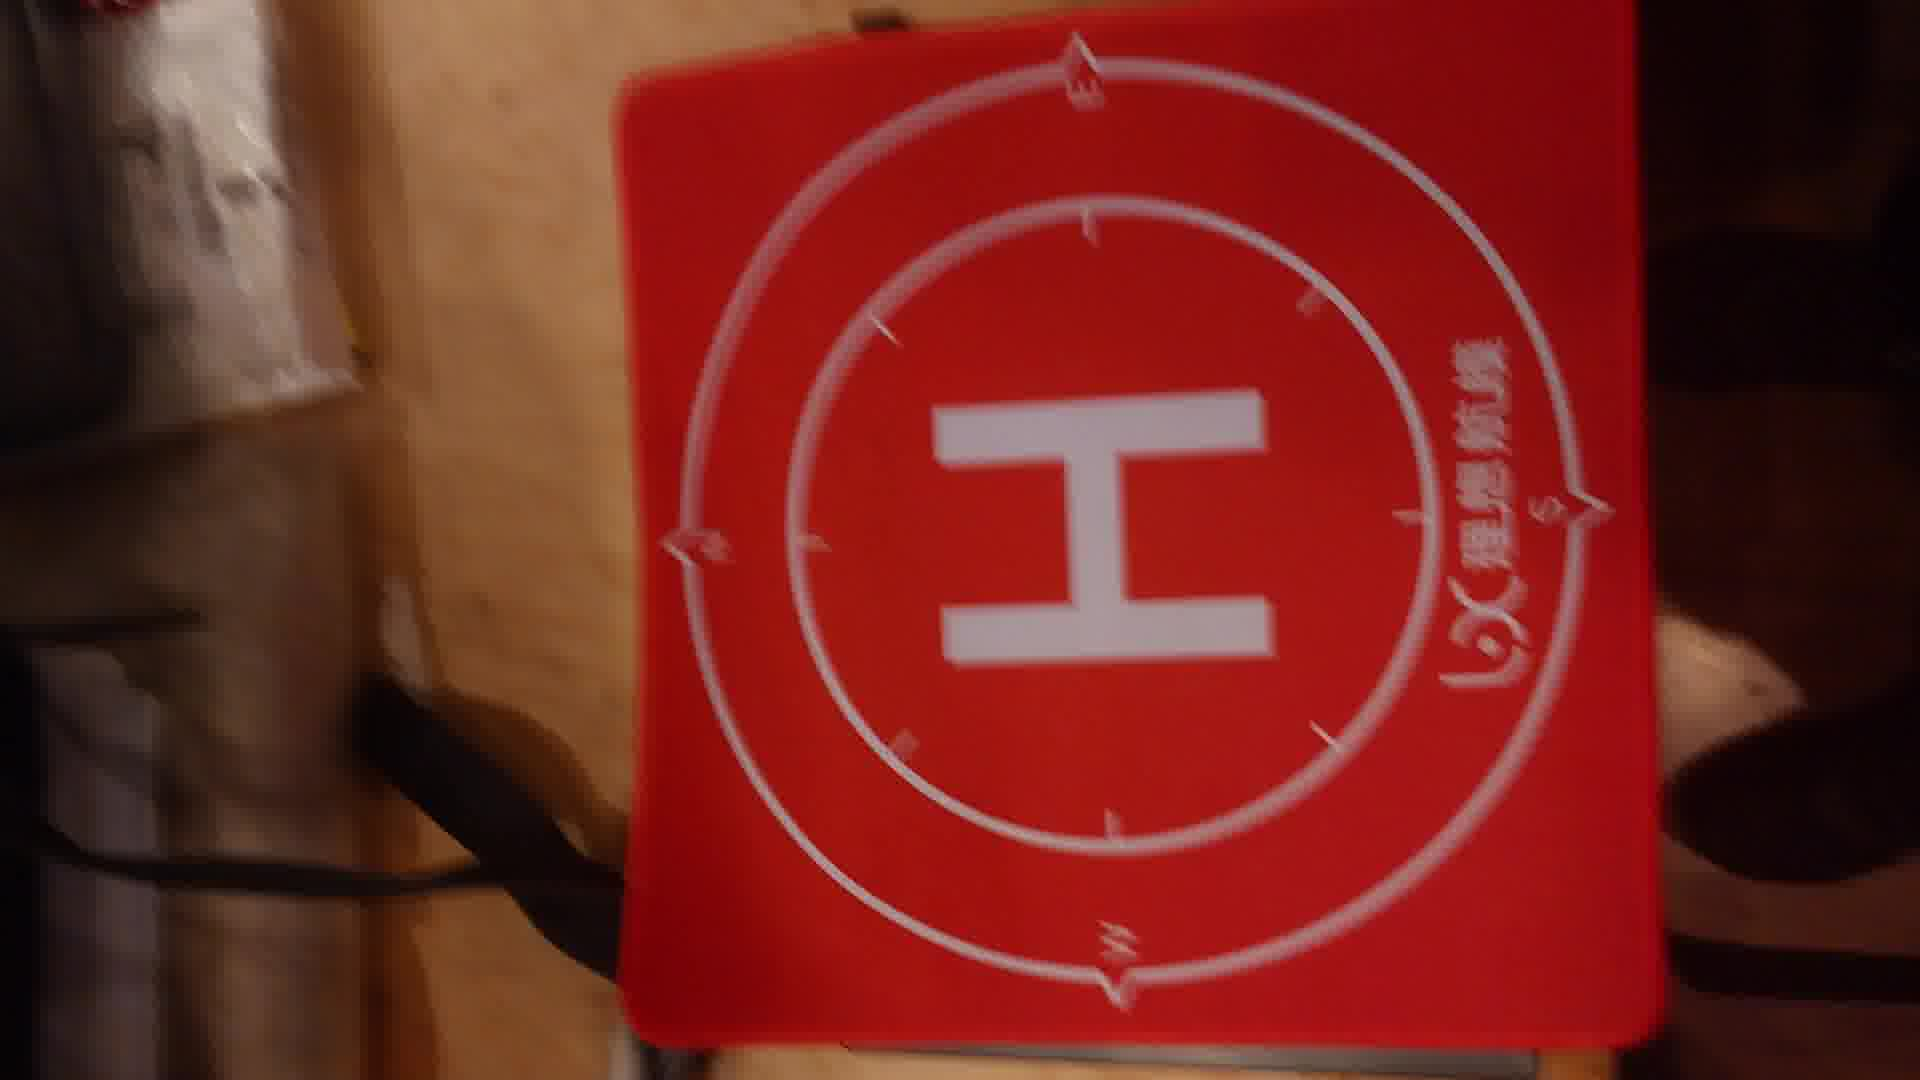H: (931, 382, 1271, 666)
